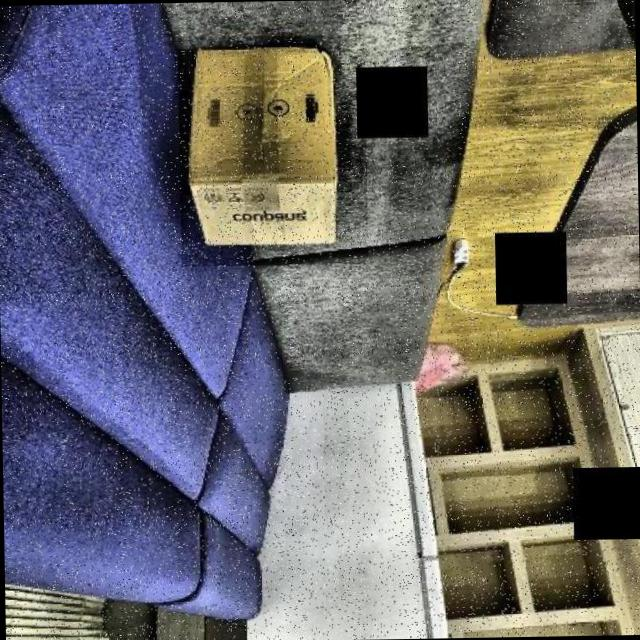box: (177, 34, 368, 267)
